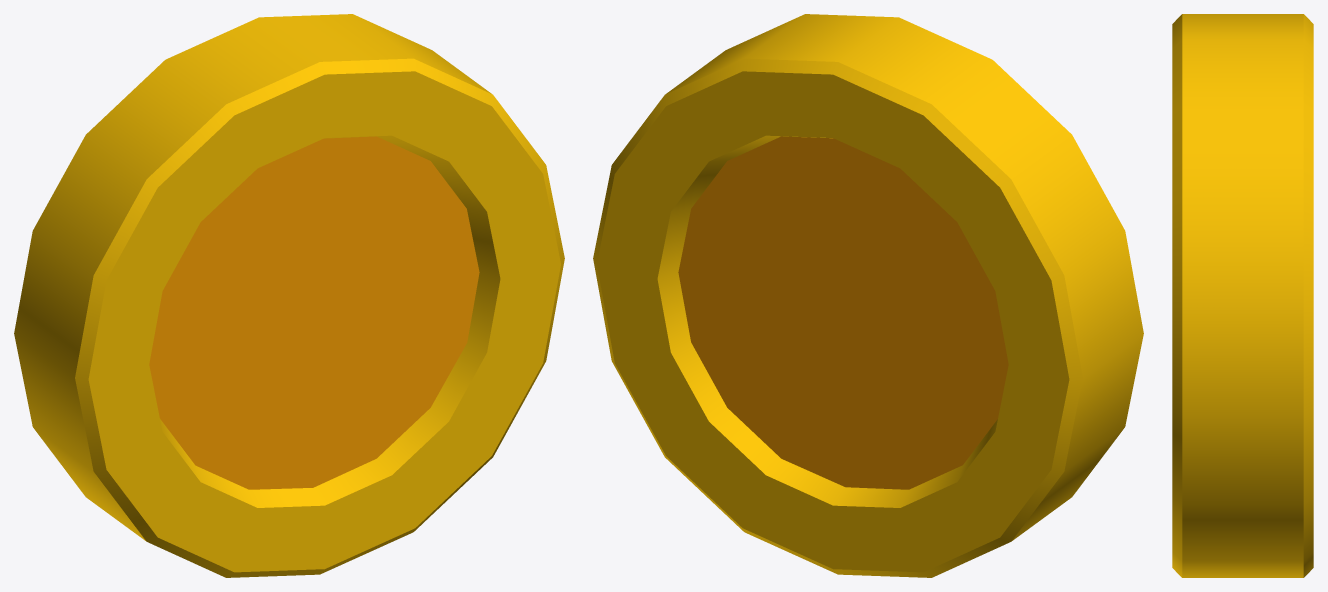
Rendered from CoinBase.fbx.
3 renders of one model, left to right at view 1: azimuth 30°, elevation 25°; view 2: azimuth 150°, elevation 25°; view 3: azimuth 270°, elevation 25°, orthographic.
Parts seen in each view (by area): view 1: CoinBase; view 2: CoinBase; view 3: CoinBase.
Part boxes in pixels (x1,y1,x2,y2): CoinBase: (14,14,564,577); CoinBase: (593,14,1143,577); CoinBase: (1172,14,1313,577).
Bounding box in the file's own units: 200 × 200 × 50.
